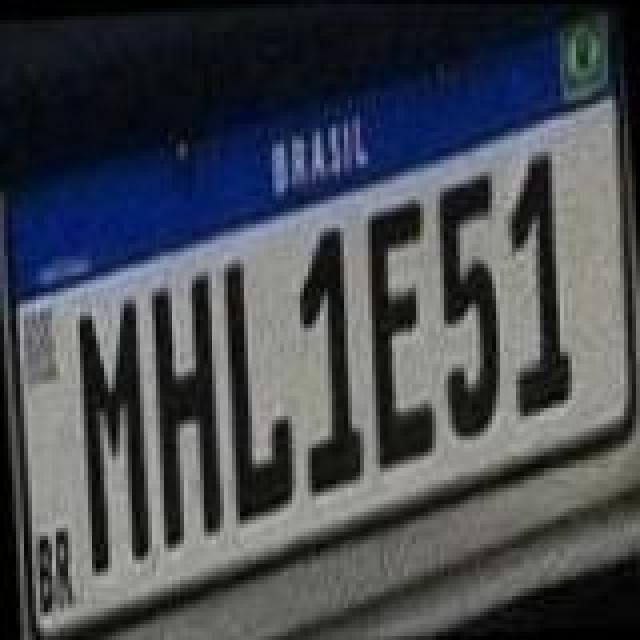1: (290, 224, 366, 500), (498, 148, 574, 420)
5: (432, 168, 512, 440)
E: (358, 200, 442, 472)
H: (144, 272, 228, 552)
L: (218, 258, 298, 526)
M: (74, 296, 154, 576)
